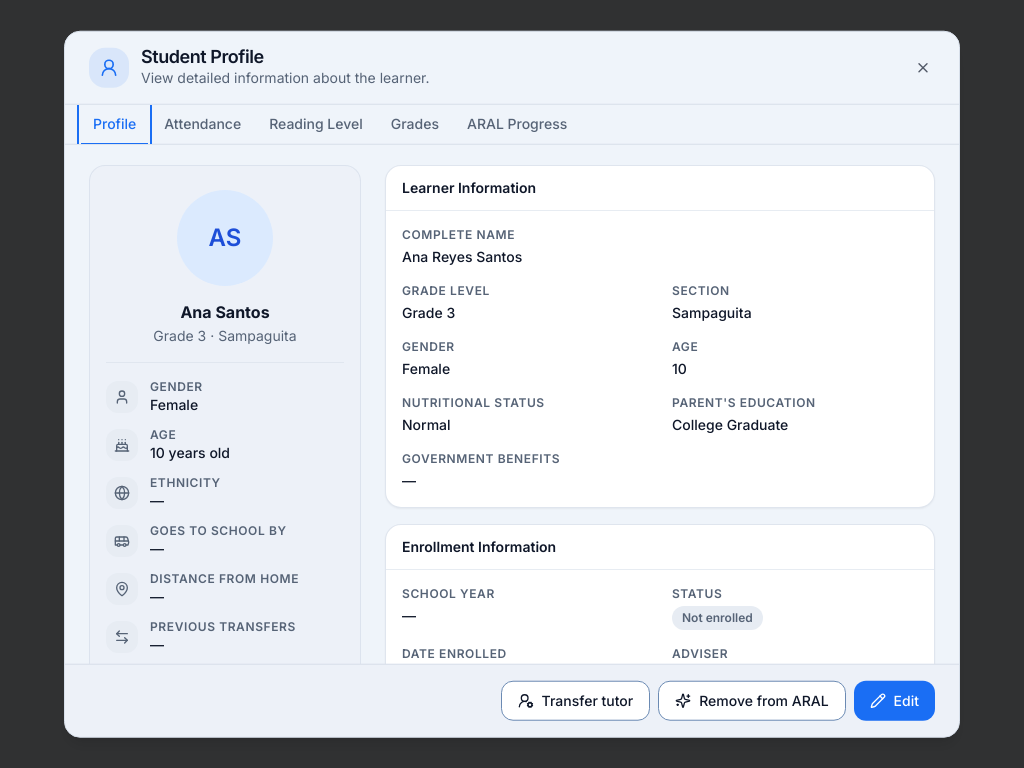
Test: LearnerProfileModal — Transfer tutor › keeps the ARAL tab read-only, tutor included
The image size is (1024, 768).
Click the tab "ARAL Progress". click: (517, 125)
box: [455,105,579,145]
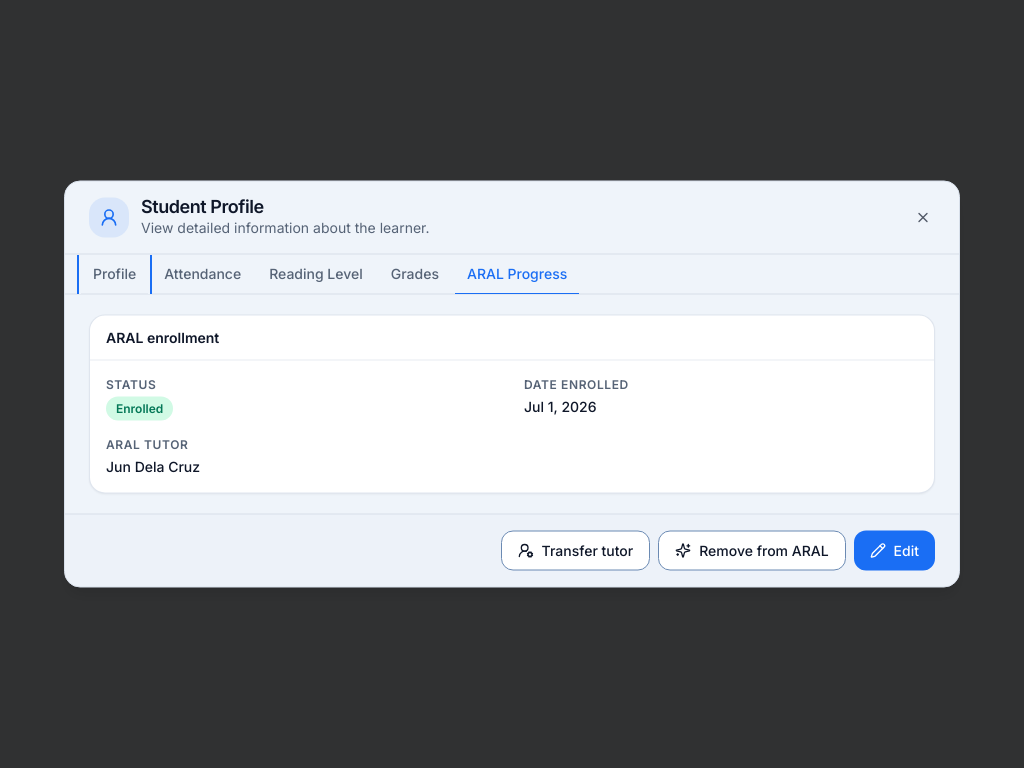
Check: the text "Jun Dela Cruz" is shown, box [106,458,200,474]
